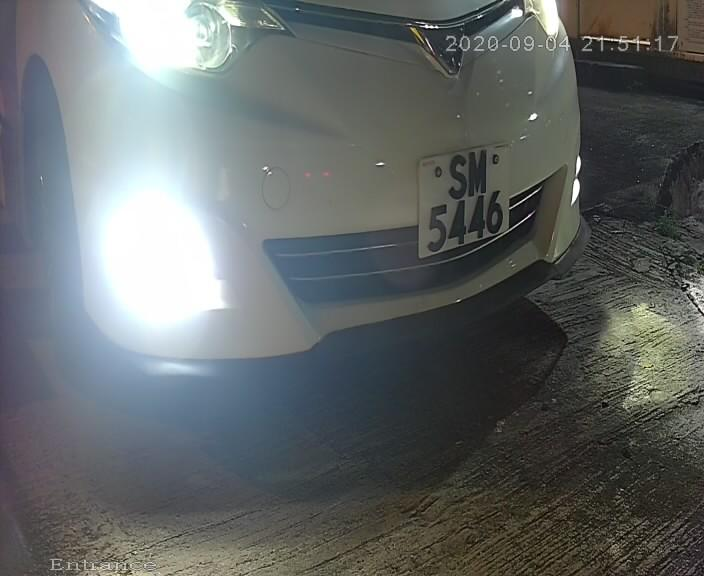License Plate: (406, 127, 525, 271)
